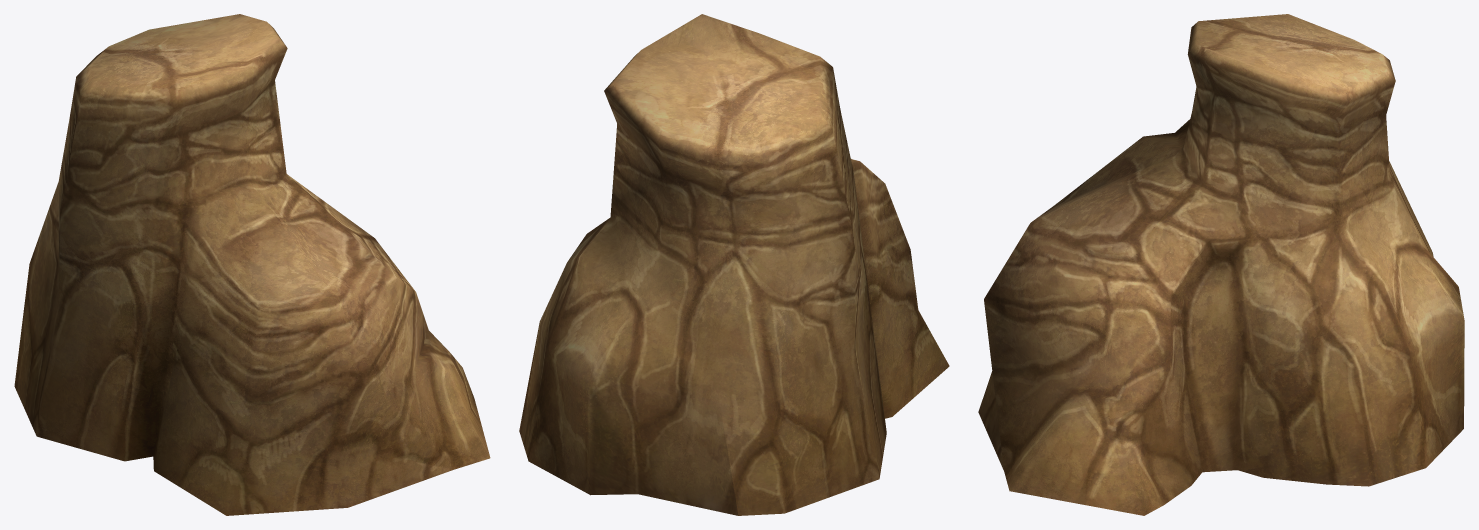
Rendered from desert rock.FBX.
3 renders of one model, left to right at view 1: azimuth 30°, elevation 25°; view 2: azimuth 150°, elevation 25°; view 3: azimuth 270°, elevation 25°, orthographic. The views are drawn at different scales.
Parts seen in each view (by area): view 1: desert rock; view 2: desert rock; view 3: desert rock.
Boxes of the visible parts, x1,y1,x2,y2 form: desert rock: [14, 14, 490, 515]; desert rock: [519, 14, 949, 515]; desert rock: [978, 14, 1464, 515].
Size of the model in its own units: 6.62 by 6.42 by 7.39.
